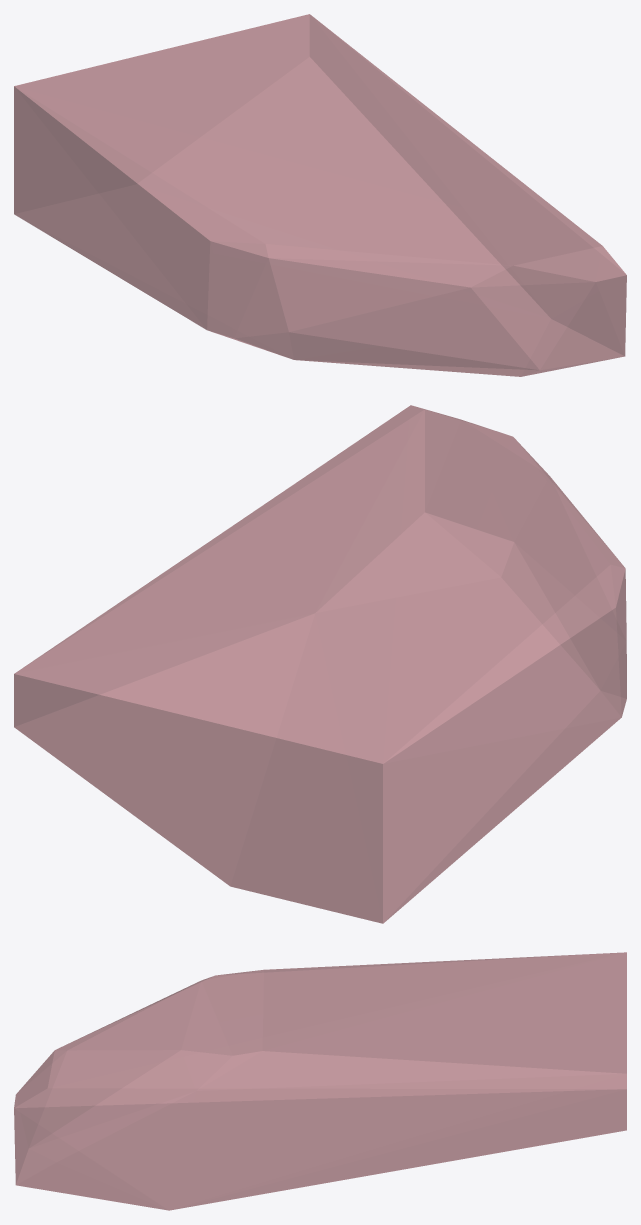
3 renders of one model, top to bottom at view 1: azimuth 30°, elevation 25°; view 2: azimuth 150°, elevation 25°; view 3: azimuth 270°, elevation 25°, orthographic. The views are drawn at different scales.
Visible parts, largest first — view 1: Shape_IndexedFaceSet.004_Shape_IndexedFaceSet.11835; view 2: Shape_IndexedFaceSet.004_Shape_IndexedFaceSet.11835; view 3: Shape_IndexedFaceSet.004_Shape_IndexedFaceSet.11835.
Part boxes in pixels (x1,y1,x2,y2): Shape_IndexedFaceSet.004_Shape_IndexedFaceSet.11835: (14,14,626,376); Shape_IndexedFaceSet.004_Shape_IndexedFaceSet.11835: (14,405,626,923); Shape_IndexedFaceSet.004_Shape_IndexedFaceSet.11835: (14,952,626,1210).
Size of the model in its own units: 0.3073 by 0.1272 by 0.5818.
